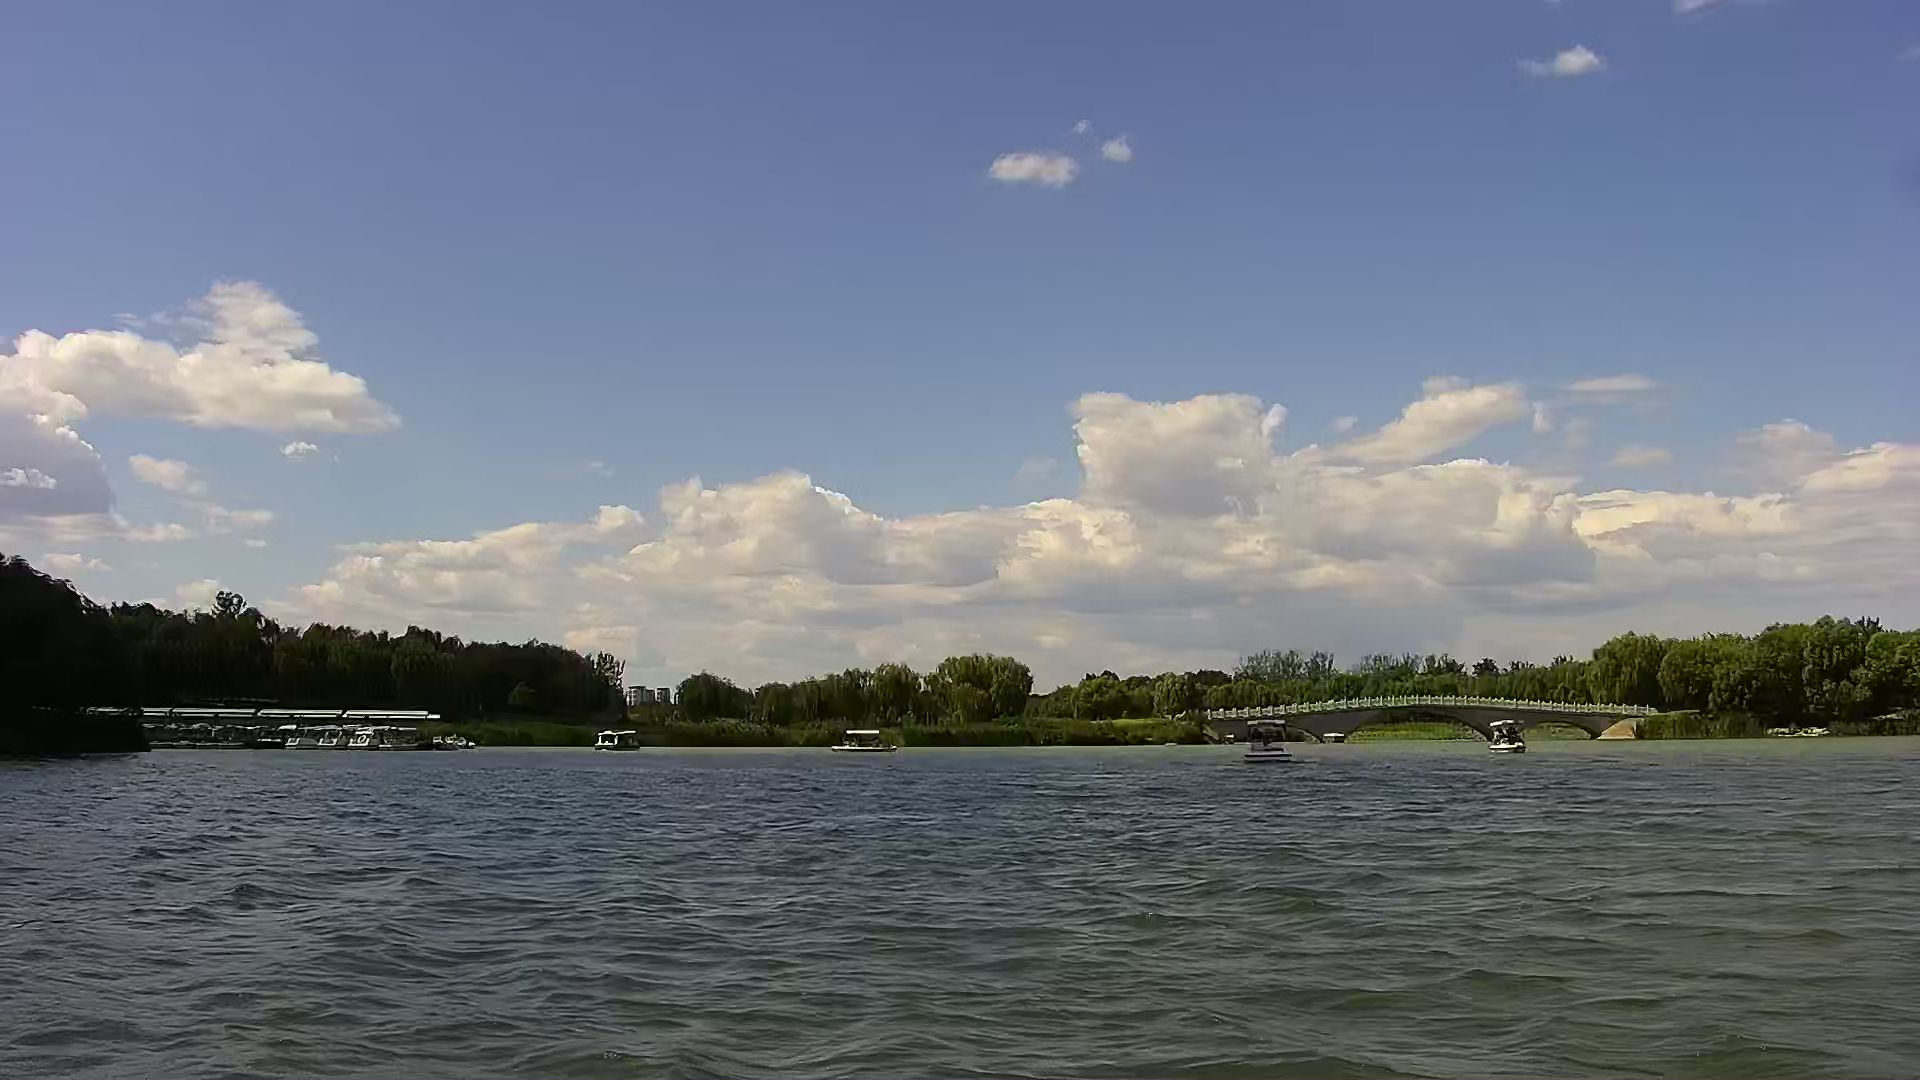boat: (1244, 720, 1302, 775), (1476, 708, 1539, 758), (309, 720, 367, 764), (831, 720, 899, 756), (587, 716, 645, 754), (281, 720, 327, 760), (349, 724, 411, 752)
bridge: (1197, 684, 1643, 748)
